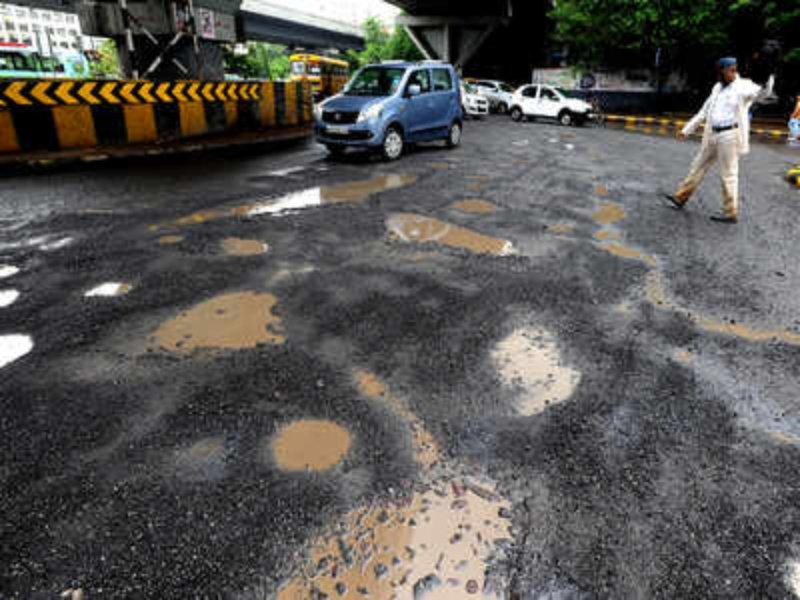pothole: (276, 484, 519, 600), (173, 171, 422, 224), (149, 284, 287, 363), (382, 204, 506, 260), (272, 415, 360, 477), (1, 327, 42, 374), (587, 197, 642, 225), (215, 233, 271, 259), (82, 280, 141, 297), (451, 196, 495, 216)
